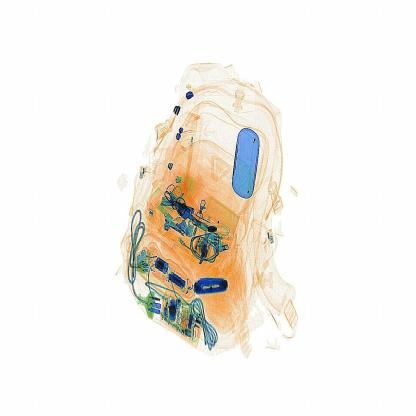scissors: (190, 272, 231, 297)
